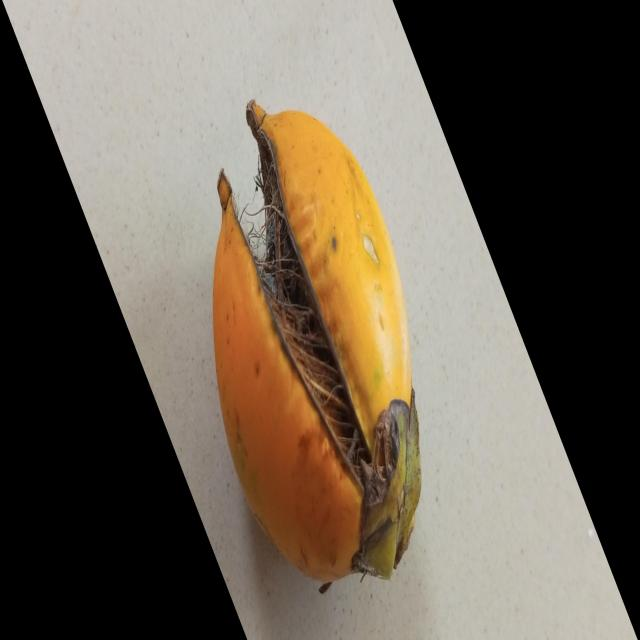damaged: (212, 100, 422, 593)
